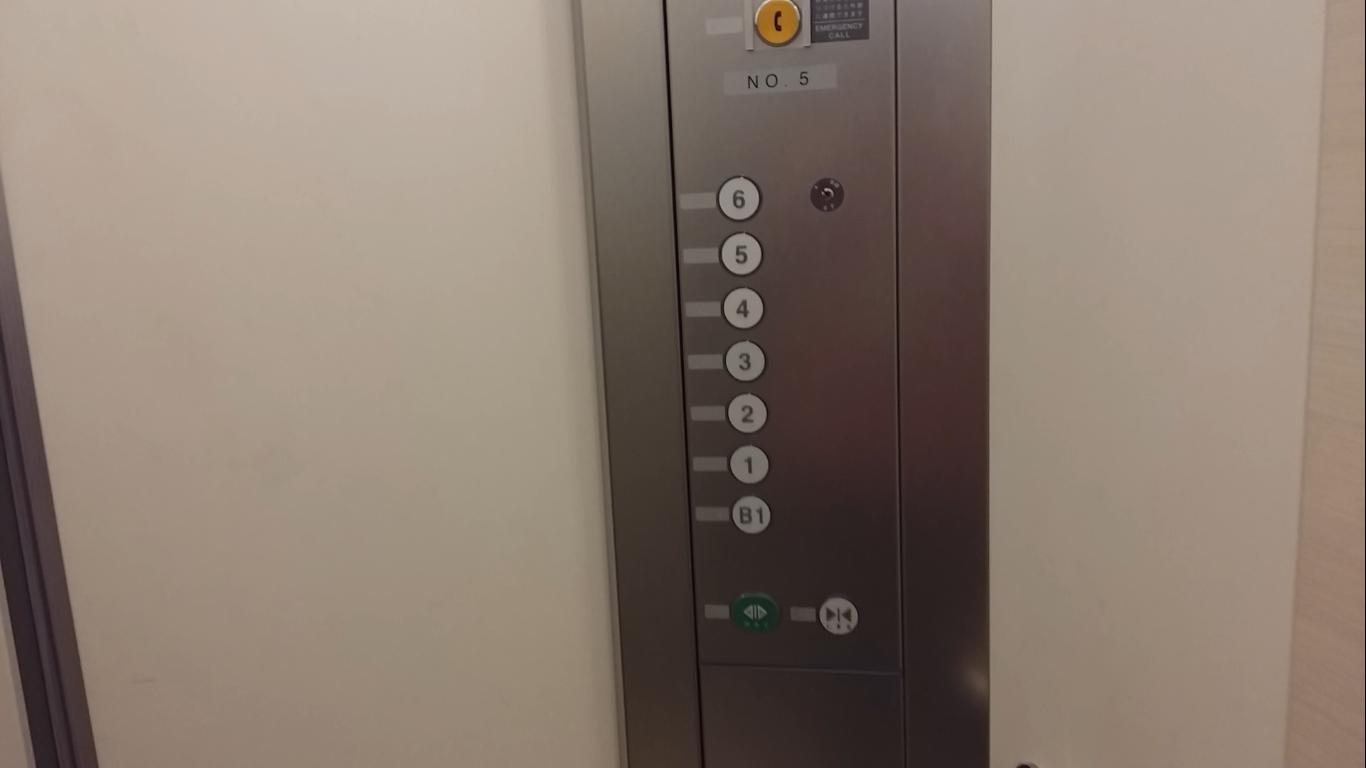1: (728, 440, 771, 486)
2: (725, 388, 770, 433)
3: (722, 338, 767, 382)
4: (720, 283, 765, 333)
5: (716, 229, 765, 277)
6: (714, 172, 762, 222)
B1: (728, 492, 772, 535)
call: (754, 0, 800, 45)
close: (817, 595, 861, 636)
open: (732, 591, 779, 634)
